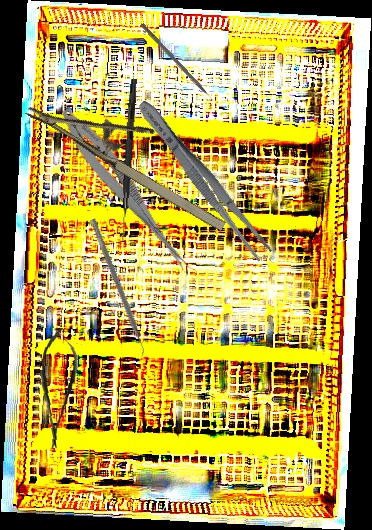Dressing Forceps: (131, 95, 276, 264)
Hook Surgical: (139, 22, 218, 107), (120, 78, 137, 242)
Micro Scissor: (51, 101, 203, 279), (32, 326, 82, 450)
Needle Holder: (25, 66, 247, 238)
Spatula Surgical: (84, 218, 150, 358)
